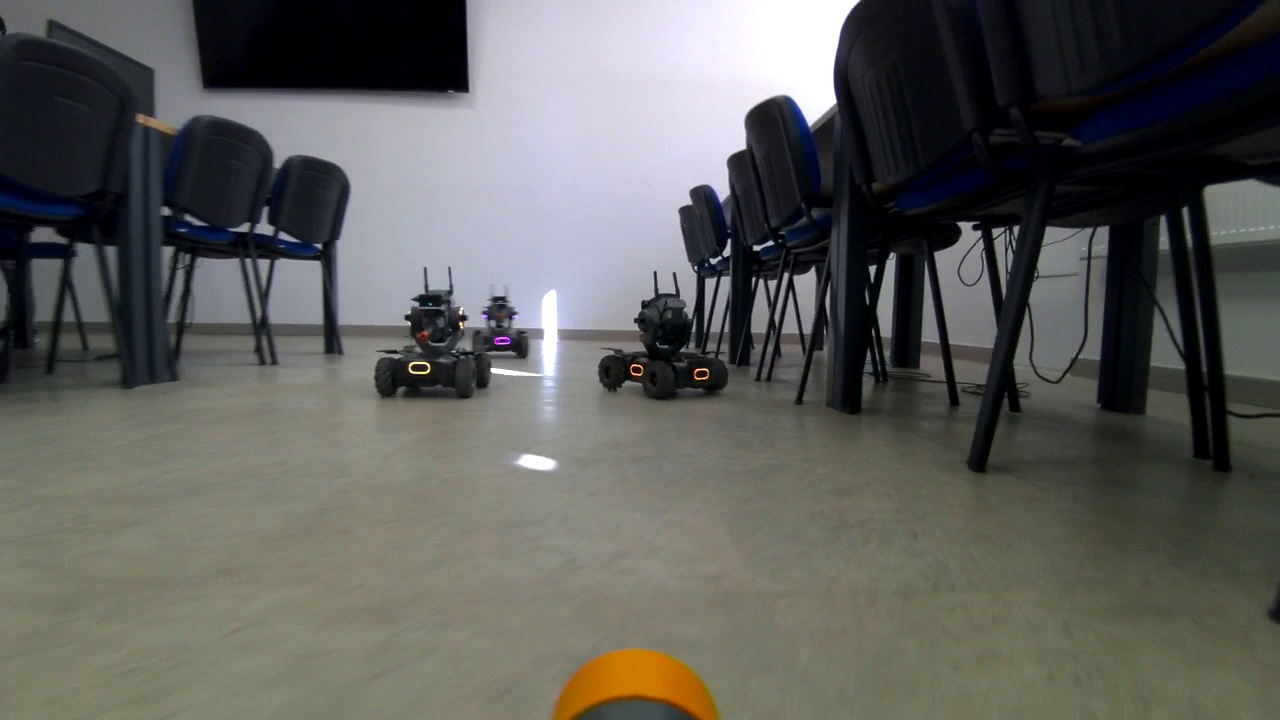robot: (598, 270, 727, 403), (376, 281, 490, 400), (471, 281, 542, 361)
